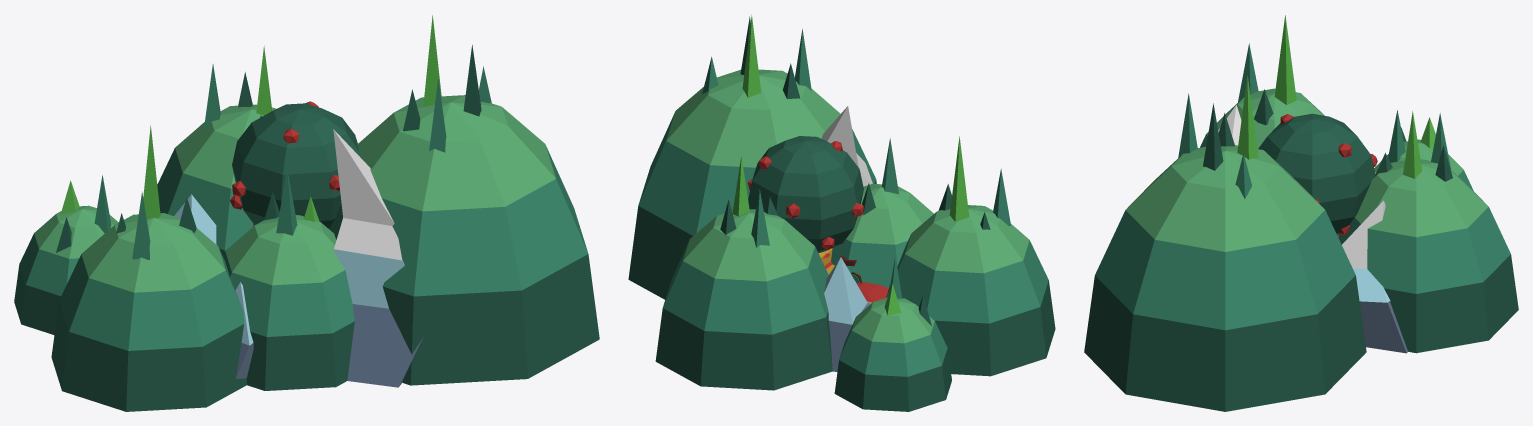
File: xMine.fbx
The picture shows the model from 3 angles, left to right: view 1: azimuth 30°, elevation 25°; view 2: azimuth 150°, elevation 25°; view 3: azimuth 270°, elevation 25°; orthographic projection. The views are drawn at different scales.
Parts seen in each view (by area): view 1: Sphere.014, Sphere.008, Sphere.012, Cone.009, Sphere, Sphere.010, Sphere.006, Cone.005, Cone.008, Cone.019, Cone.014, Cone.021 (+6 smaller); view 2: Sphere.010, Sphere.014, Sphere.008, Sphere.006, Sphere, Sphere.012, Cone.001, Cone.009, Cone.005, Cone.019, Cone.017, Cone.015 (+4 smaller); view 3: Sphere.014, Sphere.010, Sphere, Cone.006, Sphere.008, Cone.005, Cone.019, Cone.022, Cone.015, Cone.021, Sphere.006, Cone.010 (+4 smaller).
Boxes of the visible parts, x1,y1,x2,y2 form: Sphere.014: (329, 95, 599, 385); Sphere.008: (51, 213, 246, 411); Sphere.012: (223, 215, 354, 390); Cone.009: (333, 129, 423, 387); Sphere: (232, 103, 359, 228); Sphere.010: (157, 104, 276, 255); Sphere.006: (14, 205, 118, 334); Cone.005: (143, 125, 160, 218); Cone.008: (235, 282, 253, 378); Cone.019: (423, 15, 441, 106); Cone.014: (276, 168, 297, 235); Cone.021: (429, 78, 446, 152); Sphere.010: (655, 209, 832, 390); Sphere.014: (628, 69, 876, 299); Sphere.008: (886, 205, 1055, 376); Sphere.006: (834, 297, 951, 411); Sphere: (748, 136, 863, 252); Sphere.012: (831, 183, 933, 288); Cone.001: (824, 257, 869, 371); Cone.009: (821, 106, 872, 186); Cone.005: (949, 136, 969, 221); Cone.019: (742, 14, 761, 97); Cone.017: (751, 189, 769, 247); Cone.015: (732, 155, 749, 216); Sphere.014: (1084, 145, 1366, 411); Sphere.010: (1338, 159, 1518, 353); Sphere: (1258, 113, 1375, 234); Cone.006: (1342, 200, 1407, 353); Sphere.008: (1200, 88, 1324, 148); Cone.005: (1274, 15, 1296, 104); Cone.019: (1237, 75, 1258, 159); Cone.022: (1203, 103, 1223, 170); Cone.015: (1403, 111, 1422, 178); Cone.021: (1178, 93, 1197, 158); Sphere.006: (1374, 139, 1473, 190); Cone.010: (1238, 43, 1258, 102).
Bounding box in the file's own units: 27688 × 16379 × 22990.
